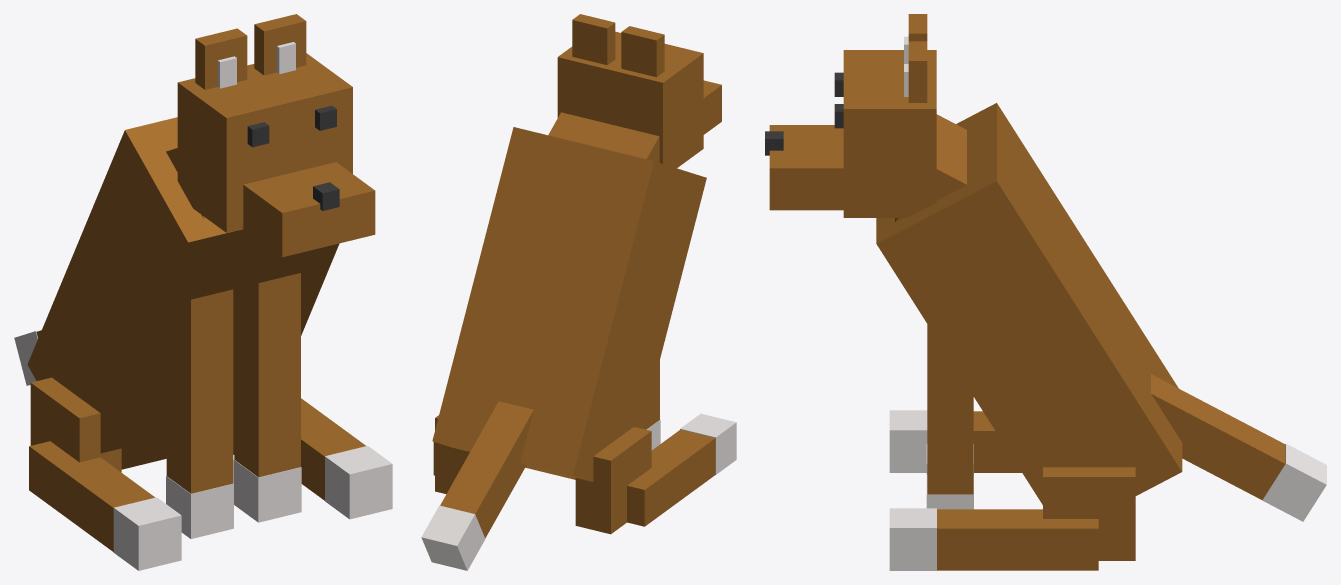
File: MoanBeast.fbx
3 renders of one model, left to right at view 1: azimuth 30°, elevation 25°; view 2: azimuth 150°, elevation 25°; view 3: azimuth 270°, elevation 25°, orthographic. The views are drawn at different scales.
Parts seen in each view (by area): view 1: Cube, Cube.017, Cube.018, Cube.015, Cube.016, Cube.019, Cube.020, Cube.021, Cube.022, Cube.013, Cube.014; view 2: Cube, Cube.019, Cube.017; view 3: Cube, Cube.018, Cube.019, Cube.017, Cube.015.
Part boxes in pixels (x1,y1,x2,y2): Cube: [27, 14, 375, 551]; Cube.017: [113, 497, 181, 570]; Cube.018: [325, 446, 392, 519]; Cube.015: [233, 459, 301, 522]; Cube.016: [166, 476, 233, 538]; Cube.019: [14, 329, 41, 385]; Cube.020: [313, 182, 339, 210]; Cube.021: [217, 56, 236, 88]; Cube.022: [276, 42, 295, 74]; Cube.013: [247, 122, 269, 147]; Cube.014: [315, 105, 336, 130]; Cube: [432, 14, 721, 538]; Cube.019: [421, 505, 485, 570]; Cube.017: [680, 413, 736, 474]; Cube: [769, 14, 1285, 570]; Cube.018: [889, 508, 936, 570]; Cube.019: [1262, 443, 1326, 521]; Cube.017: [889, 410, 927, 472]; Cube.015: [926, 475, 973, 509].
Size of the model in its own units: 60.2 by 113 by 121.
